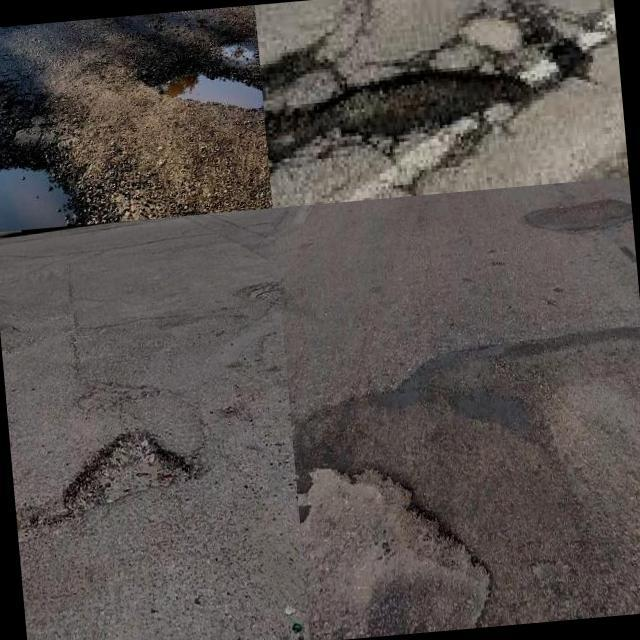Pothole: (296, 465, 490, 640), (269, 79, 529, 158), (60, 421, 194, 515), (0, 166, 75, 232), (161, 73, 263, 109), (0, 92, 30, 148), (213, 43, 256, 60)
